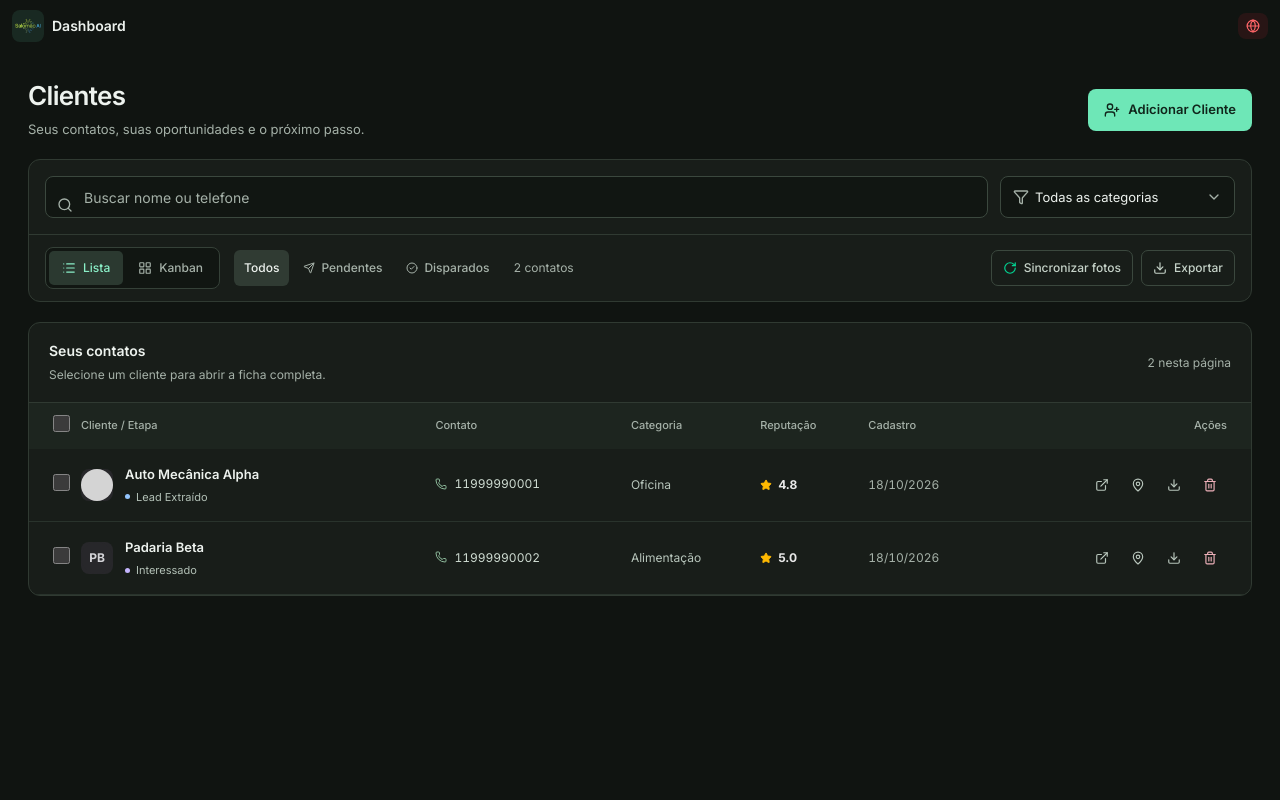
Test: LeadsPage - Sincronização e Hidratação de Fotos › aplica a busca mantendo o escopo do cliente e permite limpar os filtros
Expected: the button "Auto Mecânica Alpha" is shown, [125,465,259,484]
Type "Alpha" into the search field named "Buscar clientes" at point(516, 197), box [45,176,988,218]
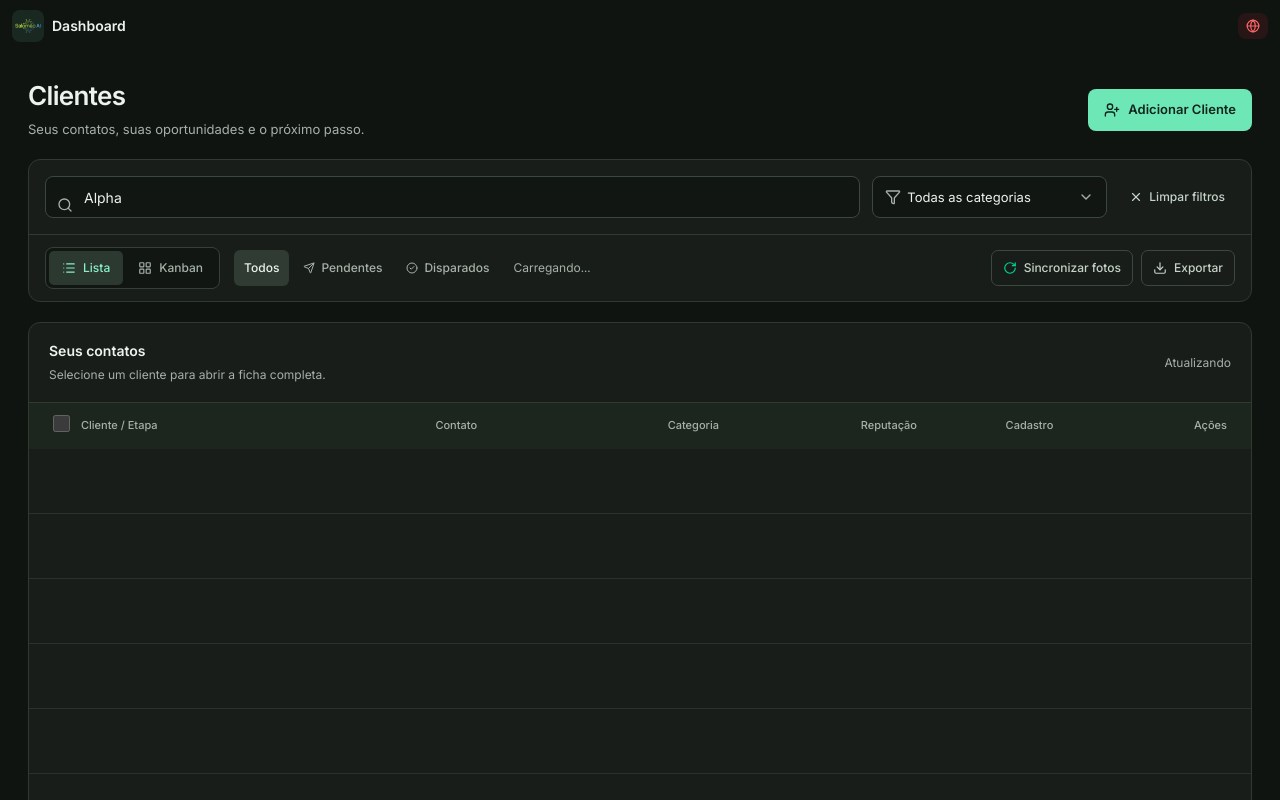
Click the button "Limpar filtros" at point(1177, 197), box [1119,177,1235,217]
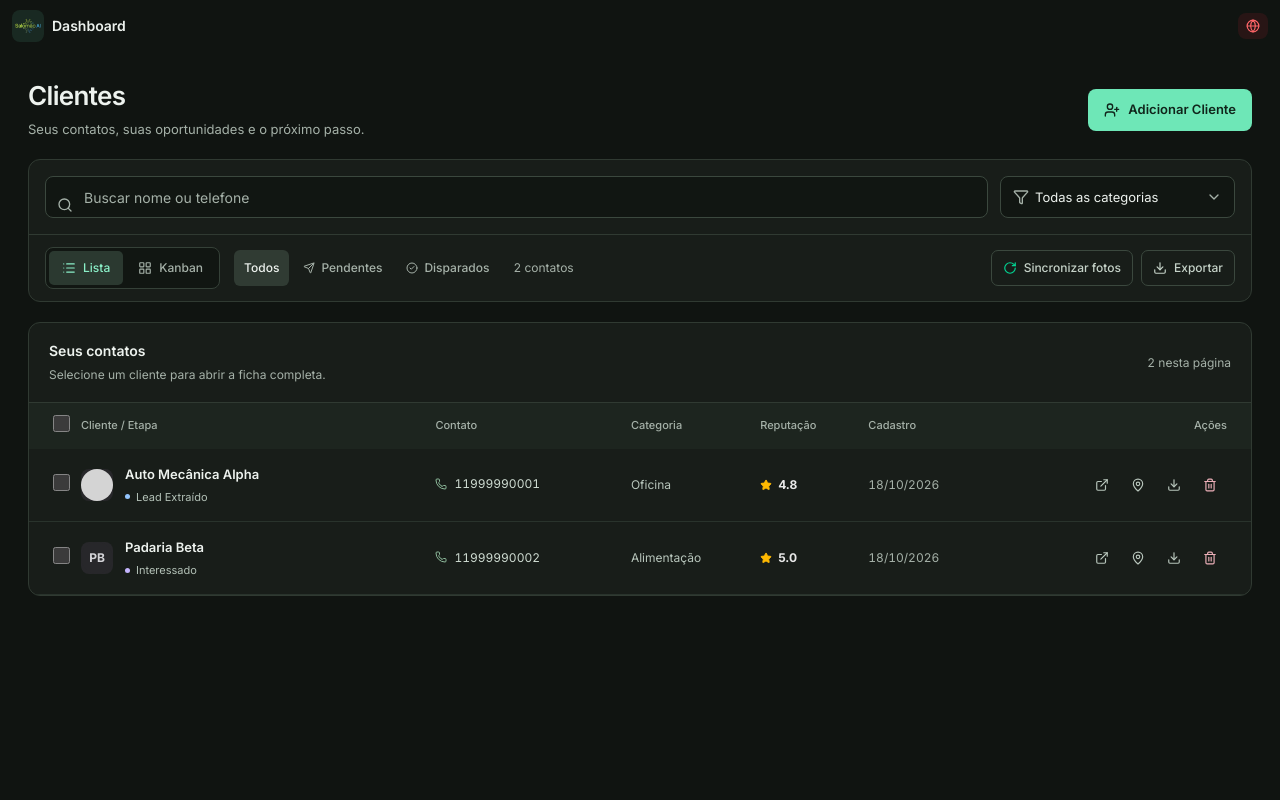
Now the search field named "Buscar clientes" is empty, box [45,176,988,218]
